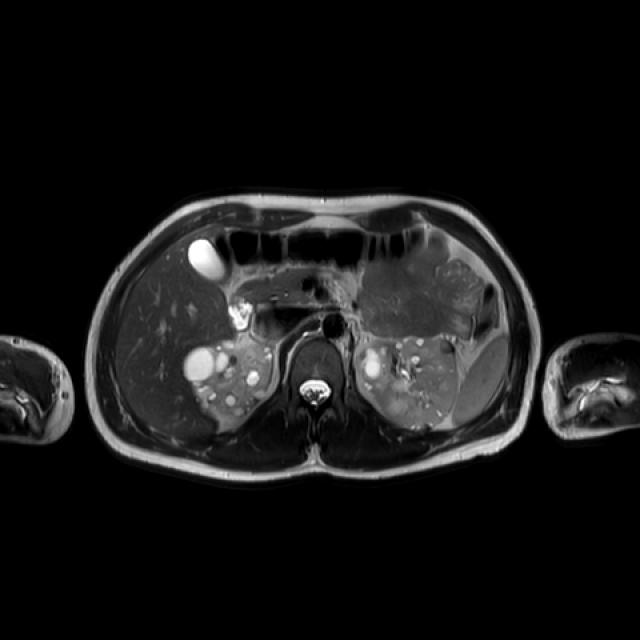Sag: (184, 329, 274, 424)
Sol: (353, 336, 457, 434)
